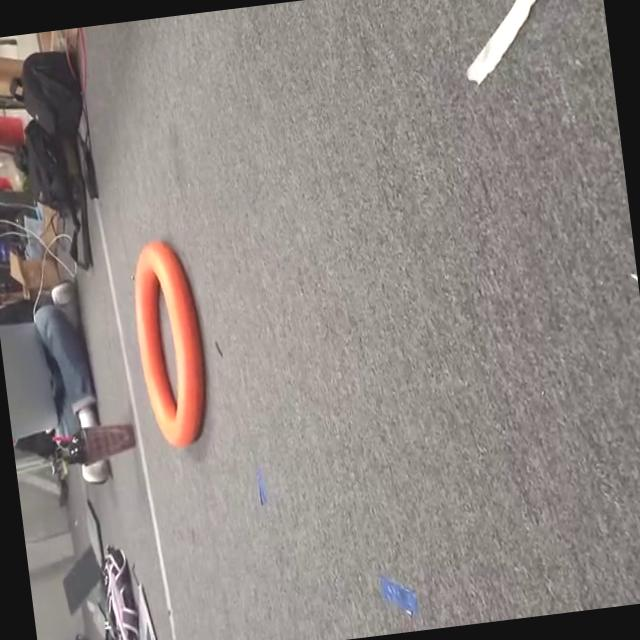note: (115, 229, 222, 460)
